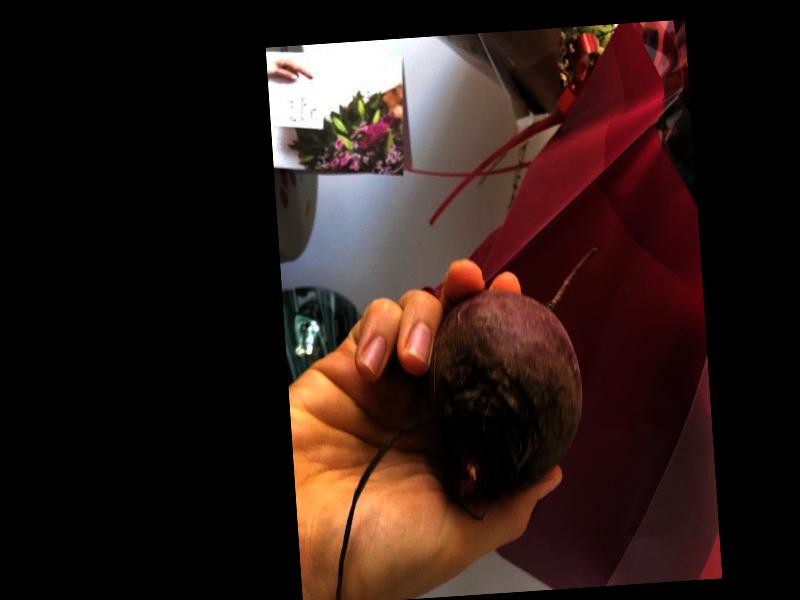Beet: (312, 243, 623, 600)
